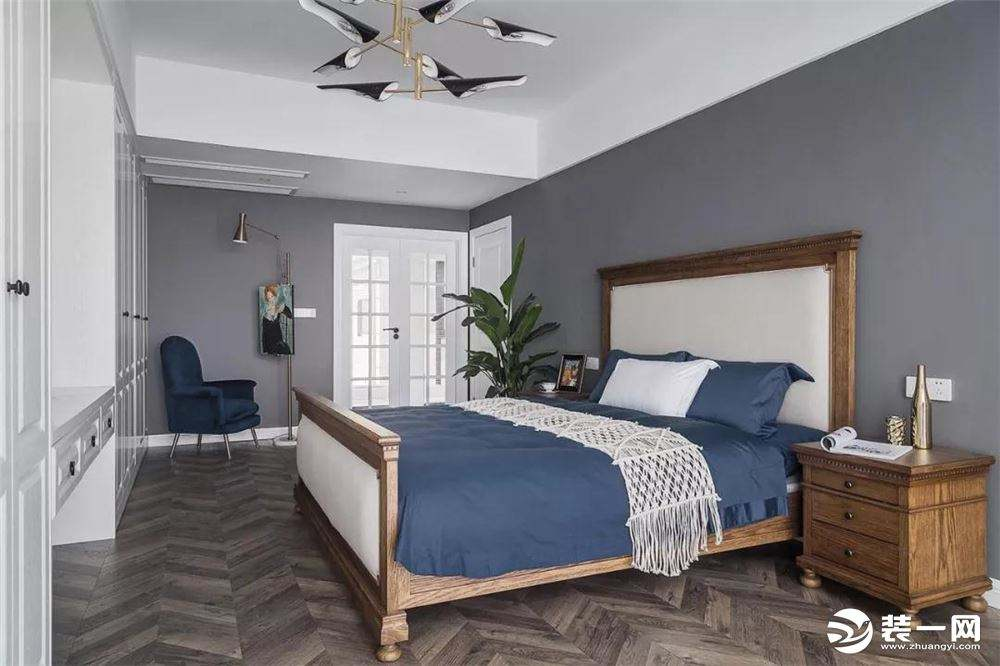床: (287, 394, 795, 607)
枕头: (589, 354, 810, 435)
灯: (293, 0, 552, 98)
